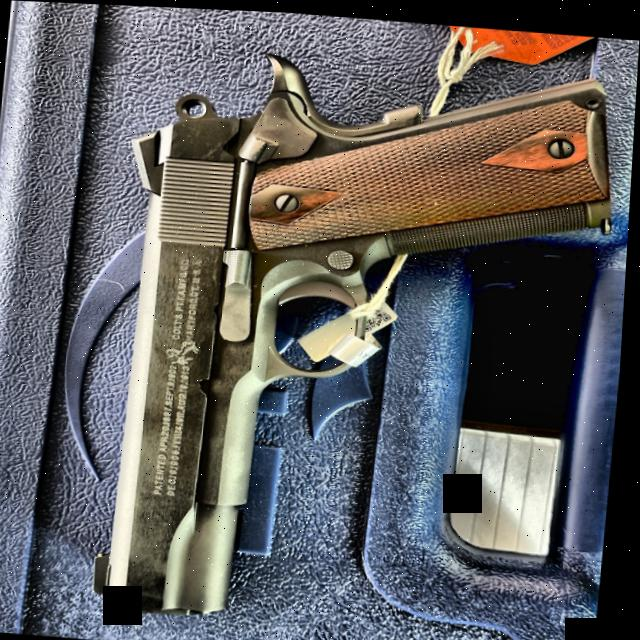Colt m1911: (78, 32, 633, 640)
